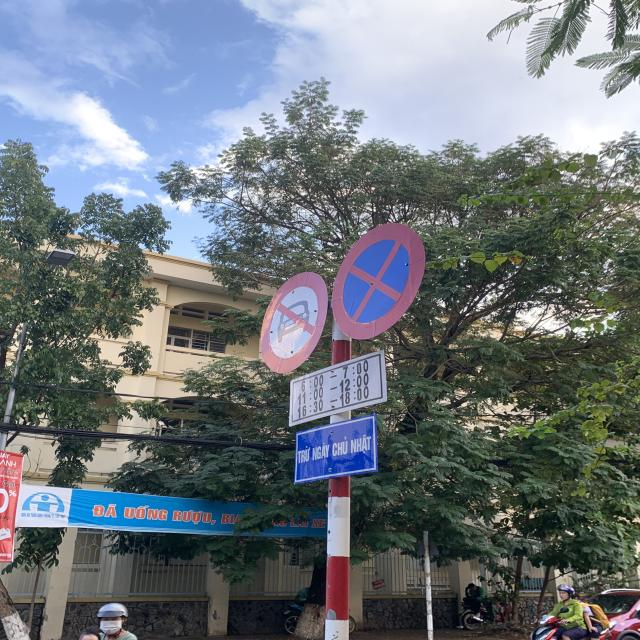Cam_Dung_Va_Dau_Xe: (329, 221, 426, 343)
Cam_O_To: (258, 269, 328, 376)
